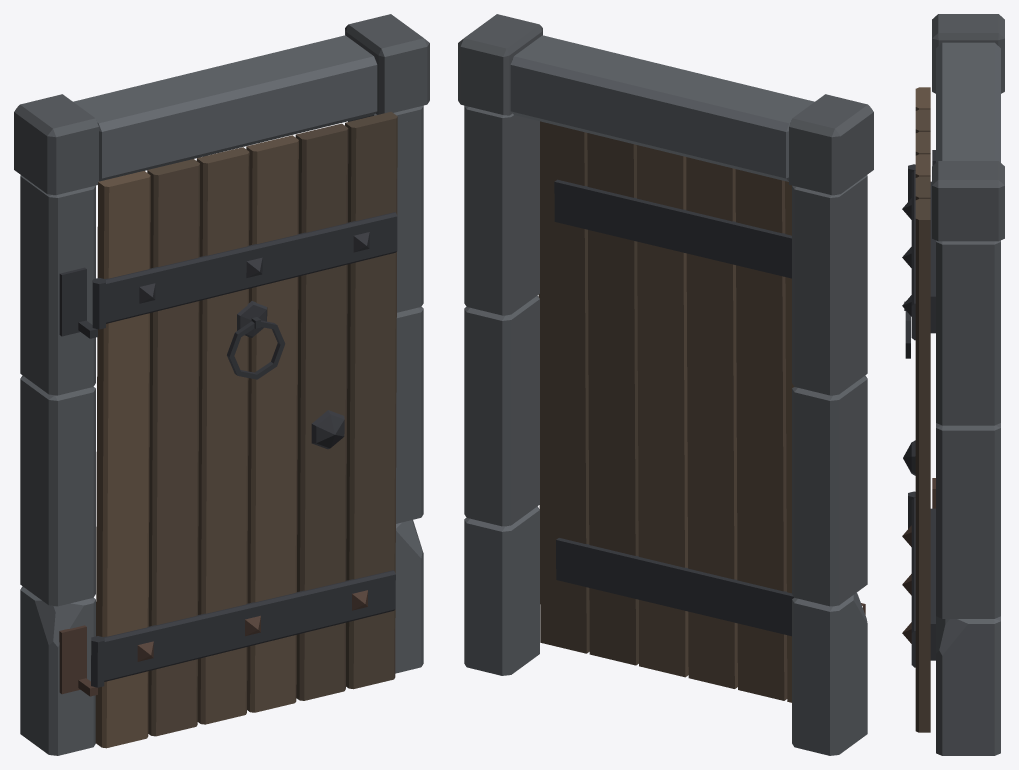
Rendered from stage2_iron_bound_door.glb.
3 views of the same model, side by side, from view 1: azimuth 30°, elevation 25°; view 2: azimuth 150°, elevation 25°; view 3: azimuth 270°, elevation 25° (orthographic). The views are drawn at different scales.
Parts seen in each view (by area): view 1: leaf, frame, ring-iron; view 2: leaf, frame; view 3: frame, leaf, ring-iron.
Part boxes in pixels (left/top/right/bottom): leaf: left=91, top=111, right=397, bottom=748; frame: left=14, top=14, right=429, bottom=755; ring-iron: left=227, top=320, right=285, bottom=379; leaf: left=538, top=121, right=794, bottom=702; frame: left=458, top=14, right=873, bottom=755; frame: left=932, top=14, right=1004, bottom=755; leaf: left=902, top=87, right=935, bottom=732; ring-iron: left=905, top=310, right=910, bottom=358.
Size of the model in its own units: 1.5 by 2.35 by 0.381.
